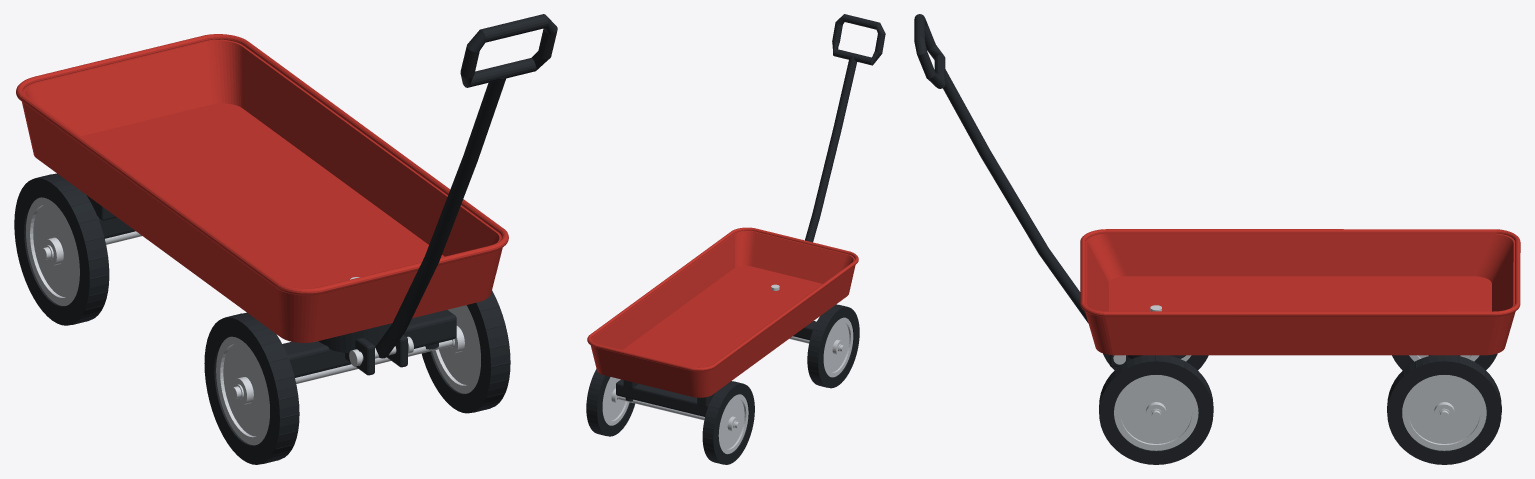
File: A-NEW-20261026-TOY-WAGON-001_LOD0_R1.glb
3 renders of one model, left to right at view 1: azimuth 30°, elevation 25°; view 2: azimuth 150°, elevation 25°; view 3: azimuth 270°, elevation 25°, orthographic. The views are drawn at different scales.
Visible parts, largest first — view 1: open wagon tub, continuous rolled rim, front -1 tire, rear -1 tire, long curved pulling handle, front 1 tire, rectangular closed loop grip, front axle beam, rear -1 dished center, front -1 dished center, front 1 dished center, rear -1 rim (+5 smaller); view 2: open wagon tub, continuous rolled rim, front -1 tire, rear -1 tire, long curved pulling handle, rear axle beam, rear 1 tire, rectangular closed loop grip, rear -1 dished center, front -1 dished center, rear 1 dished center, front -1 rim (+2 smaller); view 3: open wagon tub, continuous rolled rim, rear 1 tire, front 1 tire, rear 1 dished center, front 1 dished center, long curved pulling handle, front 1 rim, rear 1 rim, rectangular closed loop grip.
Boxes of the visible parts, box(x1,y1,x2,y2) form: open wagon tub: box(22, 39, 502, 342); continuous rolled rim: box(16, 34, 508, 295); front -1 tire: box(204, 312, 299, 464); rear -1 tire: box(14, 173, 109, 325); long curved pulling handle: box(375, 77, 506, 358); front 1 tire: box(422, 290, 510, 413); rectangular closed loop grip: box(460, 14, 557, 87); front axle beam: box(282, 309, 456, 377); rear -1 dished center: box(33, 205, 77, 297); front -1 dished center: box(223, 344, 267, 436); front 1 dished center: box(439, 305, 478, 384); rear -1 rim: box(26, 197, 79, 305); open wagon tub: box(590, 230, 855, 397); continuous rolled rim: box(587, 227, 858, 371); front -1 tire: box(807, 304, 859, 388); rear -1 tire: box(702, 381, 754, 464); long curved pulling handle: box(805, 56, 856, 242); rear axle beam: box(616, 379, 708, 416); rear 1 tire: box(586, 369, 634, 436); rectangular closed loop grip: box(832, 14, 885, 65); rear -1 dished center: box(720, 398, 744, 449); front -1 dished center: box(825, 322, 849, 372); rear 1 dished center: box(604, 377, 625, 420); front -1 rim: box(823, 317, 853, 377); open wagon tub: box(1085, 233, 1515, 355); continuous rolled rim: box(1080, 229, 1520, 316); rear 1 tire: box(1387, 355, 1501, 464); front 1 tire: box(1099, 355, 1213, 464); rear 1 dished center: box(1408, 380, 1480, 443); front 1 dished center: box(1120, 380, 1192, 443); long curved pulling handle: box(943, 68, 1088, 323); front 1 rim: box(1114, 375, 1198, 450); rear 1 rim: box(1402, 375, 1486, 450); rectangular closed loop grip: box(914, 14, 945, 88).
Size of the model in its own units: 0.48 by 0.9722 by 1.35.
